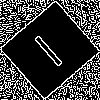I: (24, 25, 65, 70)
